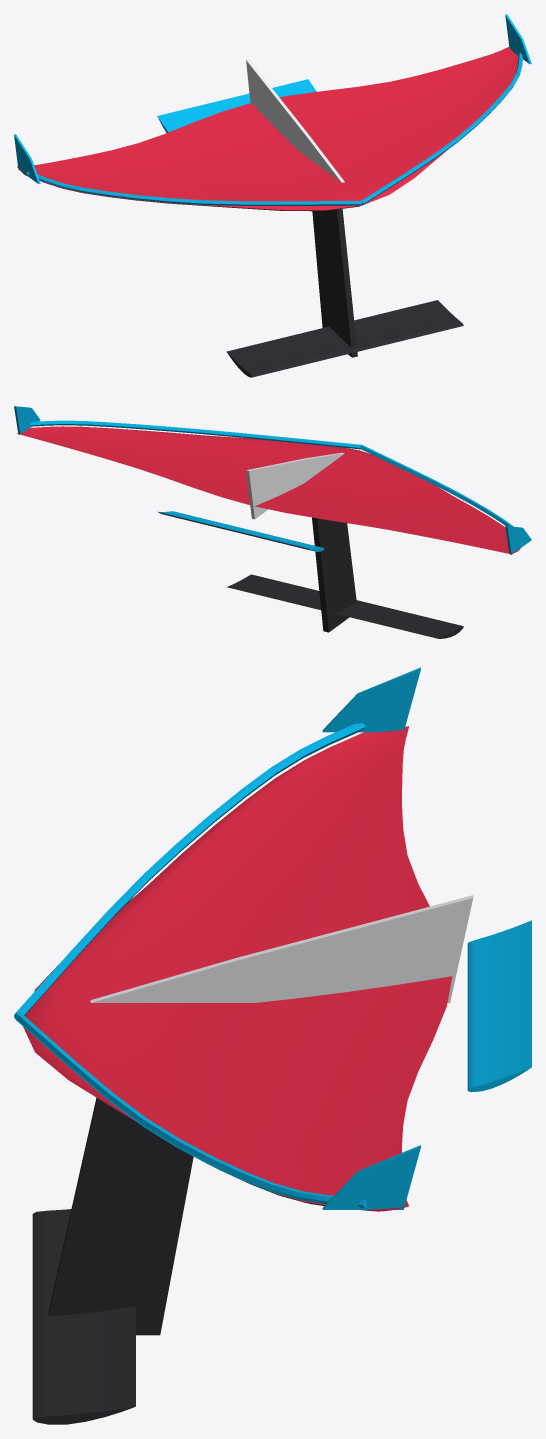
File: blade.glb
3 views of the same model, one above another, from view 1: azimuth 30°, elevation 25°; view 2: azimuth 150°, elevation 25°; view 3: azimuth 270°, elevation 25° (orthographic). The views are drawn at different scales.
Visible parts, largest first — view 1: RearWing_blade, DRSFlap_blade; view 2: RearWing_blade, DRSFlap_blade; view 3: RearWing_blade, DRSFlap_blade.
Part boxes in pixels (x1,y1,x2,y2): RearWing_blade: (14, 14, 531, 377); DRSFlap_blade: (157, 79, 316, 132); RearWing_blade: (14, 406, 531, 638); DRSFlap_blade: (157, 511, 324, 551); RearWing_blade: (14, 667, 473, 1424); DRSFlap_blade: (467, 920, 531, 1091).
Bounding box in the file's own units: 1.97 × 0.83 × 0.8936.
